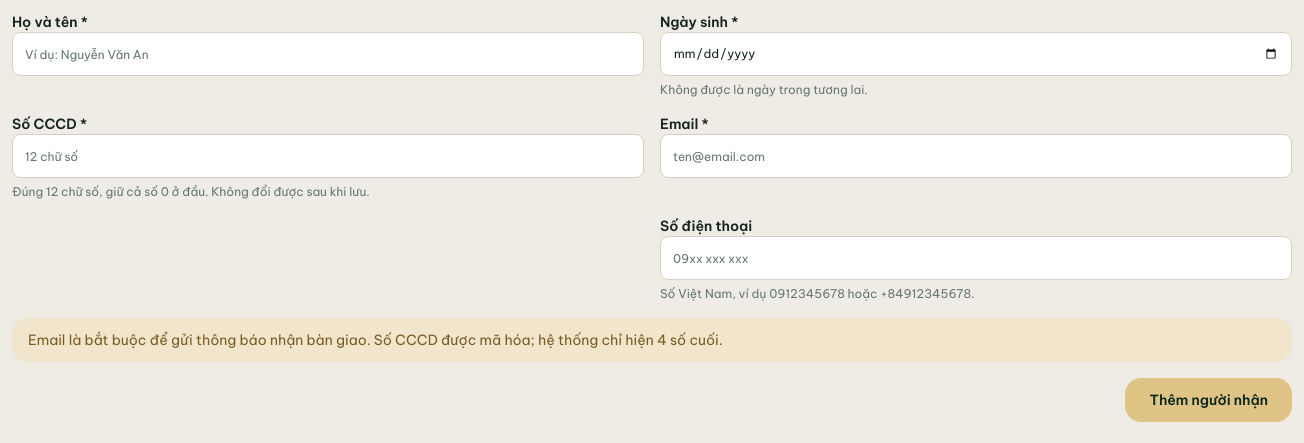
Test case: requires contact information before submitting a beneficiary
The image size is (1304, 443).
Type "012345678901" into the field labelled "Số CCCD" at (328, 156), box [12, 134, 644, 178]
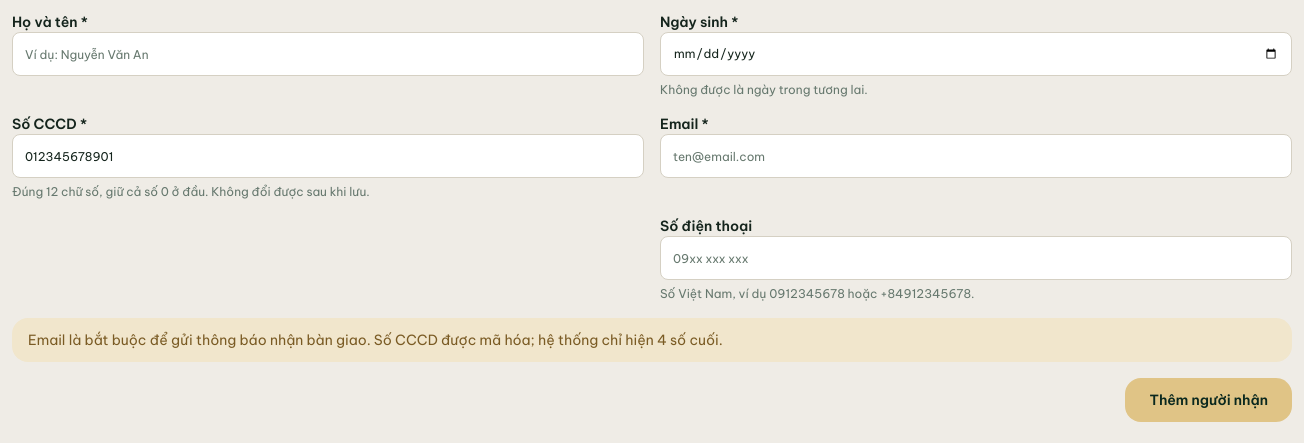
Type "Người nhận thử" into the field labelled "Họ và tên *" at (328, 54), box [12, 32, 644, 76]
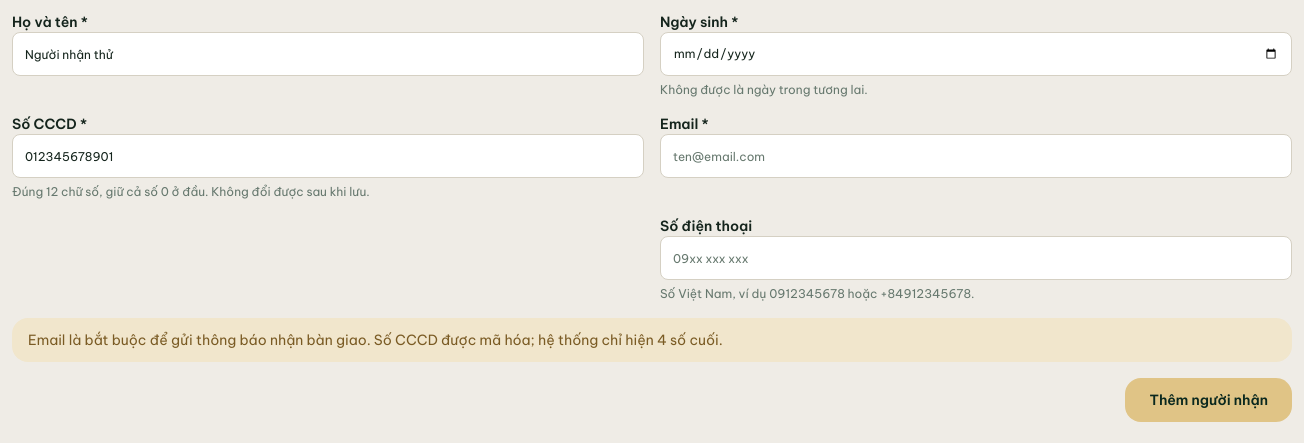
Type "2015-01-01" into the date field labelled "Ngày sinh * Không được là ngày trong tương lai." at (976, 54), box [660, 32, 1292, 76]
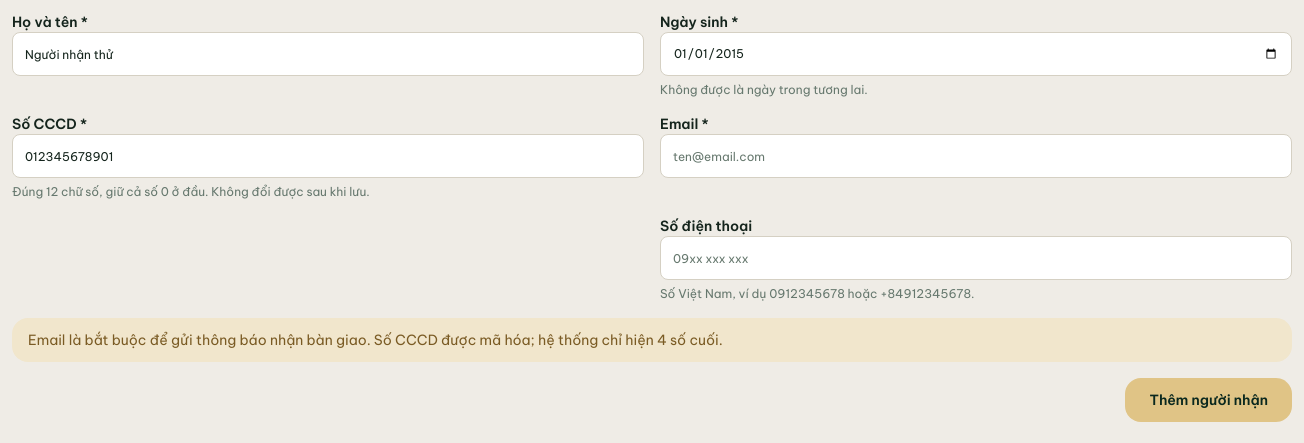
Click the button "Thêm người nhận" at (1209, 400), box [1126, 378, 1292, 422]
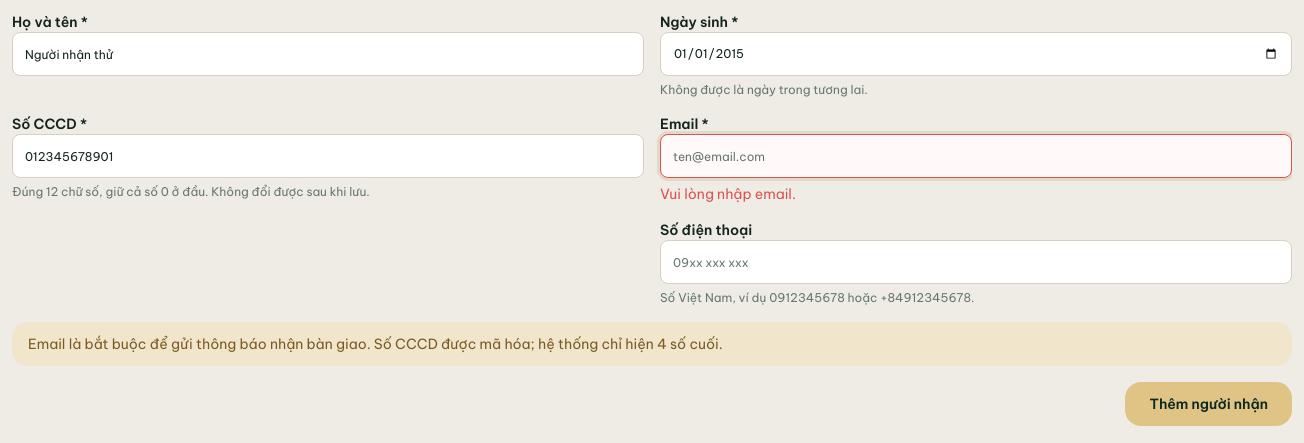
Expected: the message reads "Vui lòng nhập email.", [660, 185, 796, 203]
